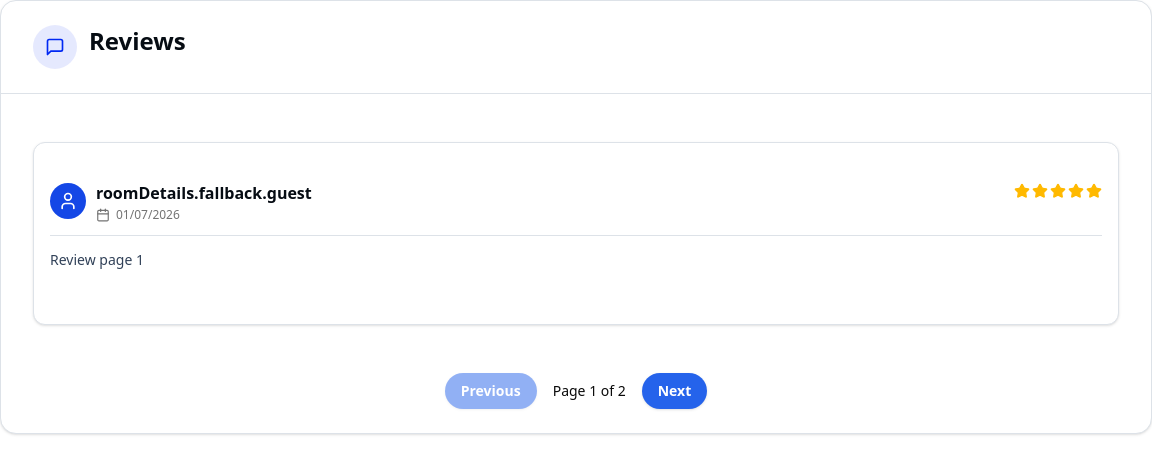
it: PublicUserReviewsSection › updates the requested reviews page when paging controls are used
The image size is (1152, 452).
Click the button "Next".
click(674, 391)  # box left=642, top=373, right=707, bottom=409
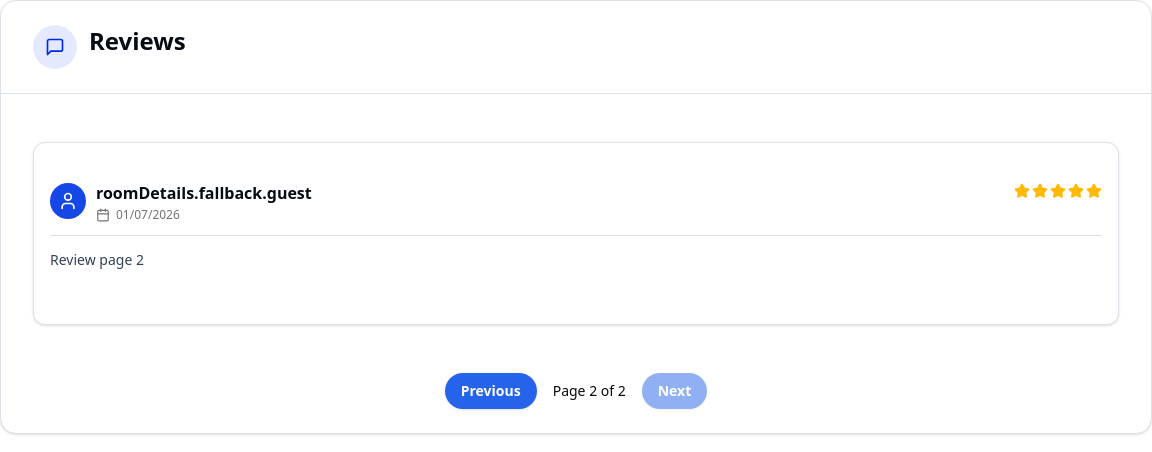
Now the text "Review page 2" is shown, box left=50, top=250, right=144, bottom=269
